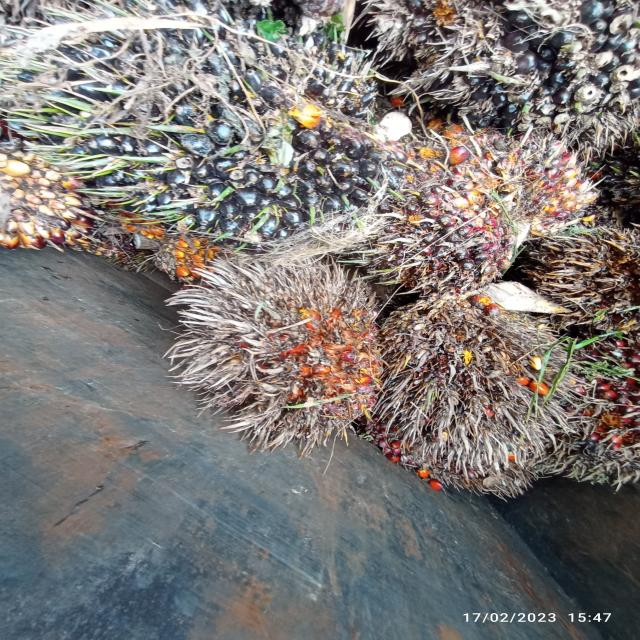fraksi 00: (9, 0, 447, 247), (360, 94, 594, 293), (391, 0, 640, 117)
fraksi 4: (132, 232, 427, 478)
